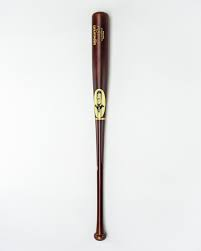bat: (90, 10, 110, 242)
